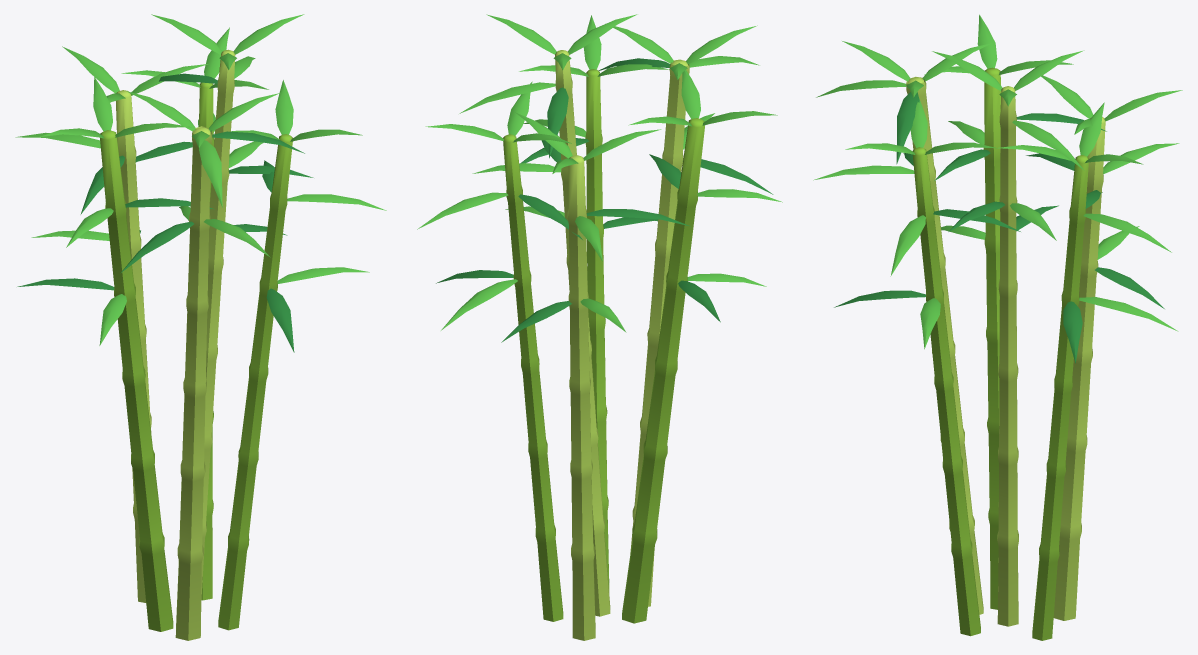
Rendered from bamboo_cluster.glb.
3 views of the same model, side by side, from view 1: azimuth 30°, elevation 25°; view 2: azimuth 150°, elevation 25°; view 3: azimuth 270°, elevation 25° (orthographic).
Parts seen in each view (by area): view 1: bamboo_cluster; view 2: bamboo_cluster; view 3: bamboo_cluster.
Boxes of the visible parts, <box> form: bamboo_cluster: <box>15,14,386,640</box>; bamboo_cluster: <box>417,14,782,640</box>; bamboo_cluster: <box>813,14,1182,640</box>.
Bounding box in the file's own units: 2.26 × 4.07 × 2.4.
